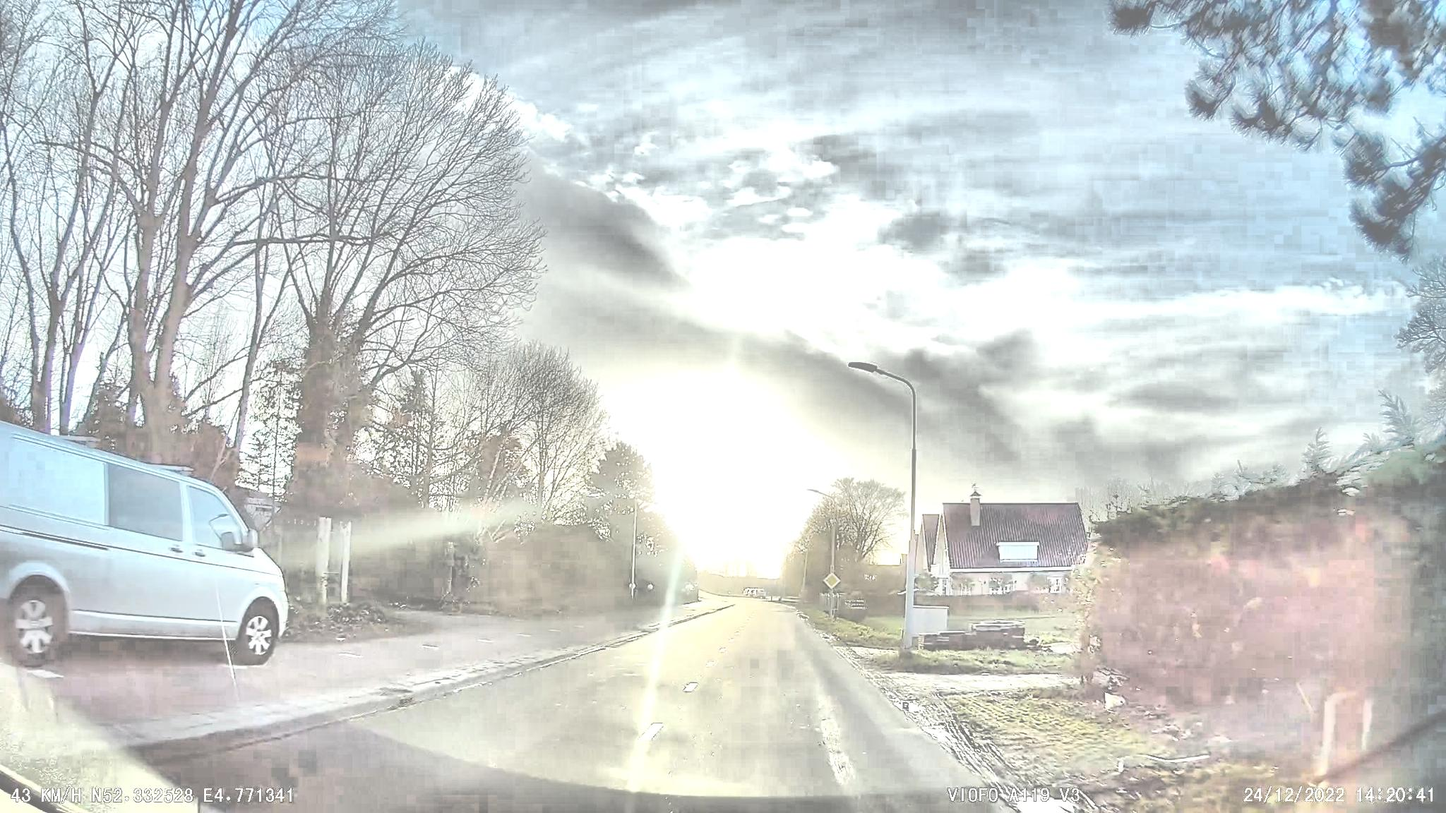Roads: (162, 600, 1089, 813)
